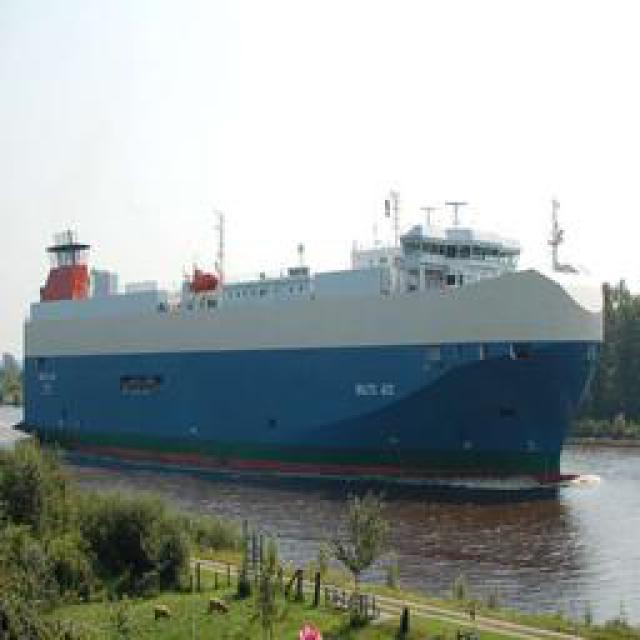Ship: (25, 228, 603, 473)
